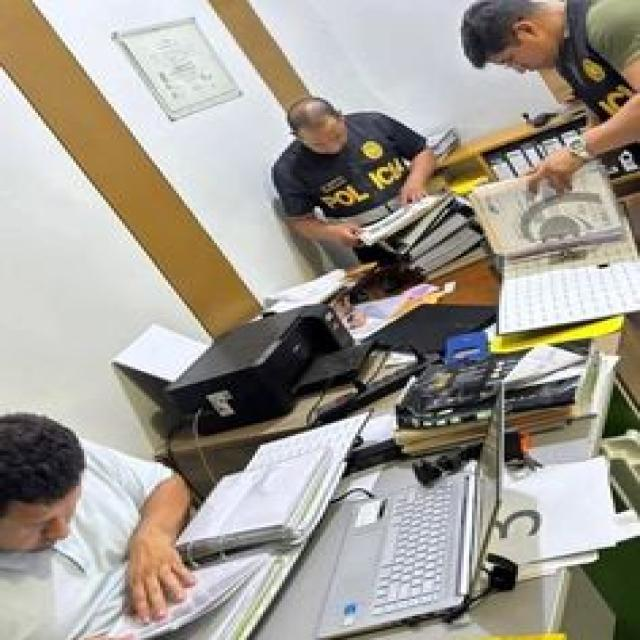9_cabeza_baja: (286, 96, 349, 156)
